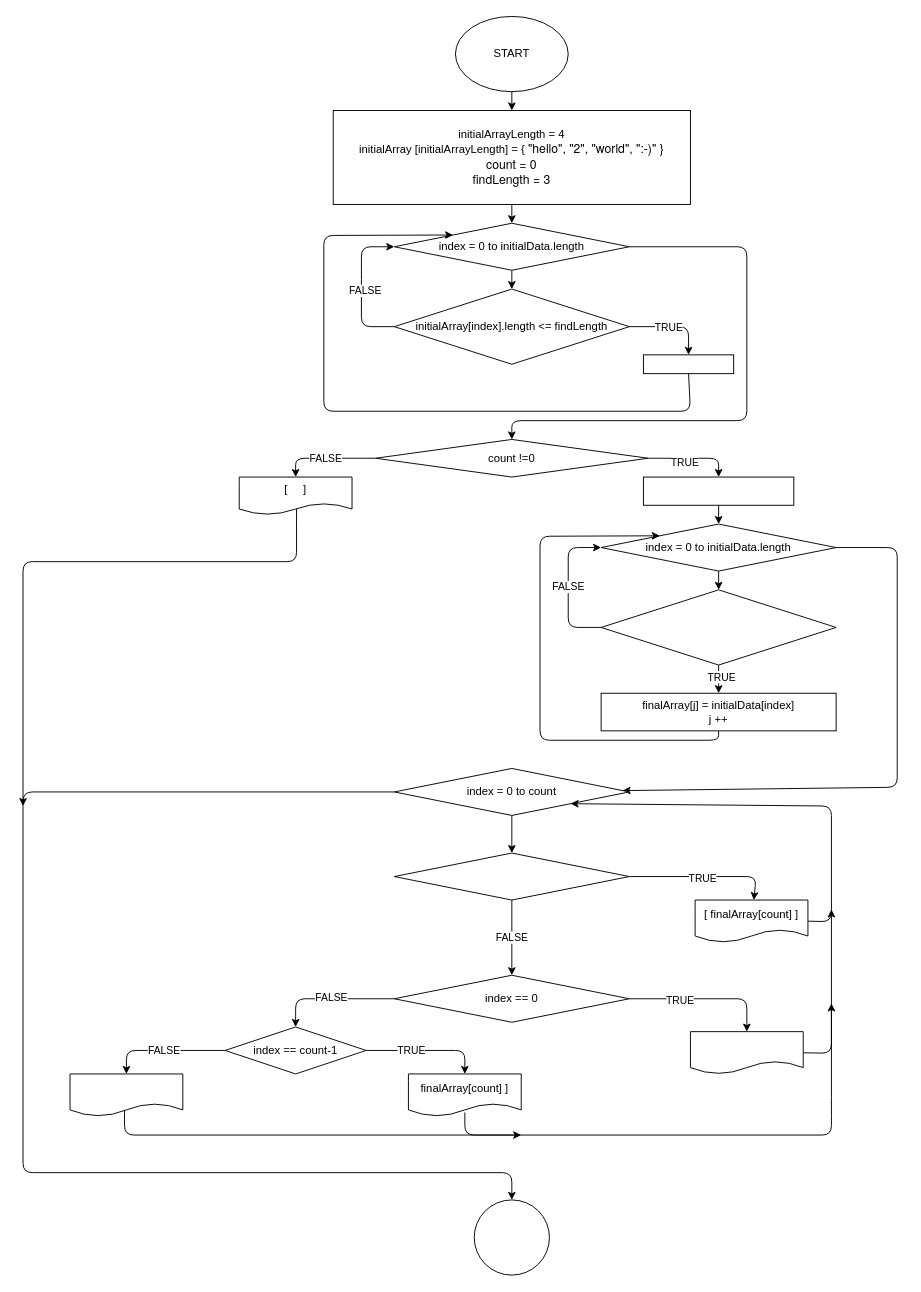
The diagram is 921 pixels wide and 1292 high, and some of its shapes have lost their labels. Each missing label, with the box of its shape:
[ finalArray[count],: (689, 1031, 803, 1074)
count ++: (642, 354, 734, 374)
count == 1: (393, 852, 629, 900)
END: (473, 1199, 549, 1275)
finalArray [ count] j = 0: (642, 476, 794, 505)
finalArray[count],: (69, 1073, 183, 1116)
initialData[index].length <= findLength: (600, 589, 836, 665)
